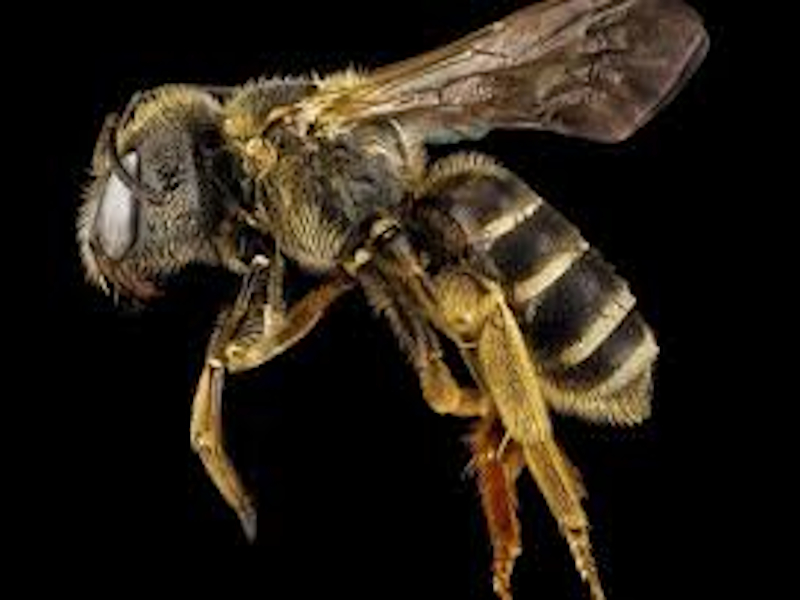abeja: (47, 1, 799, 559)
